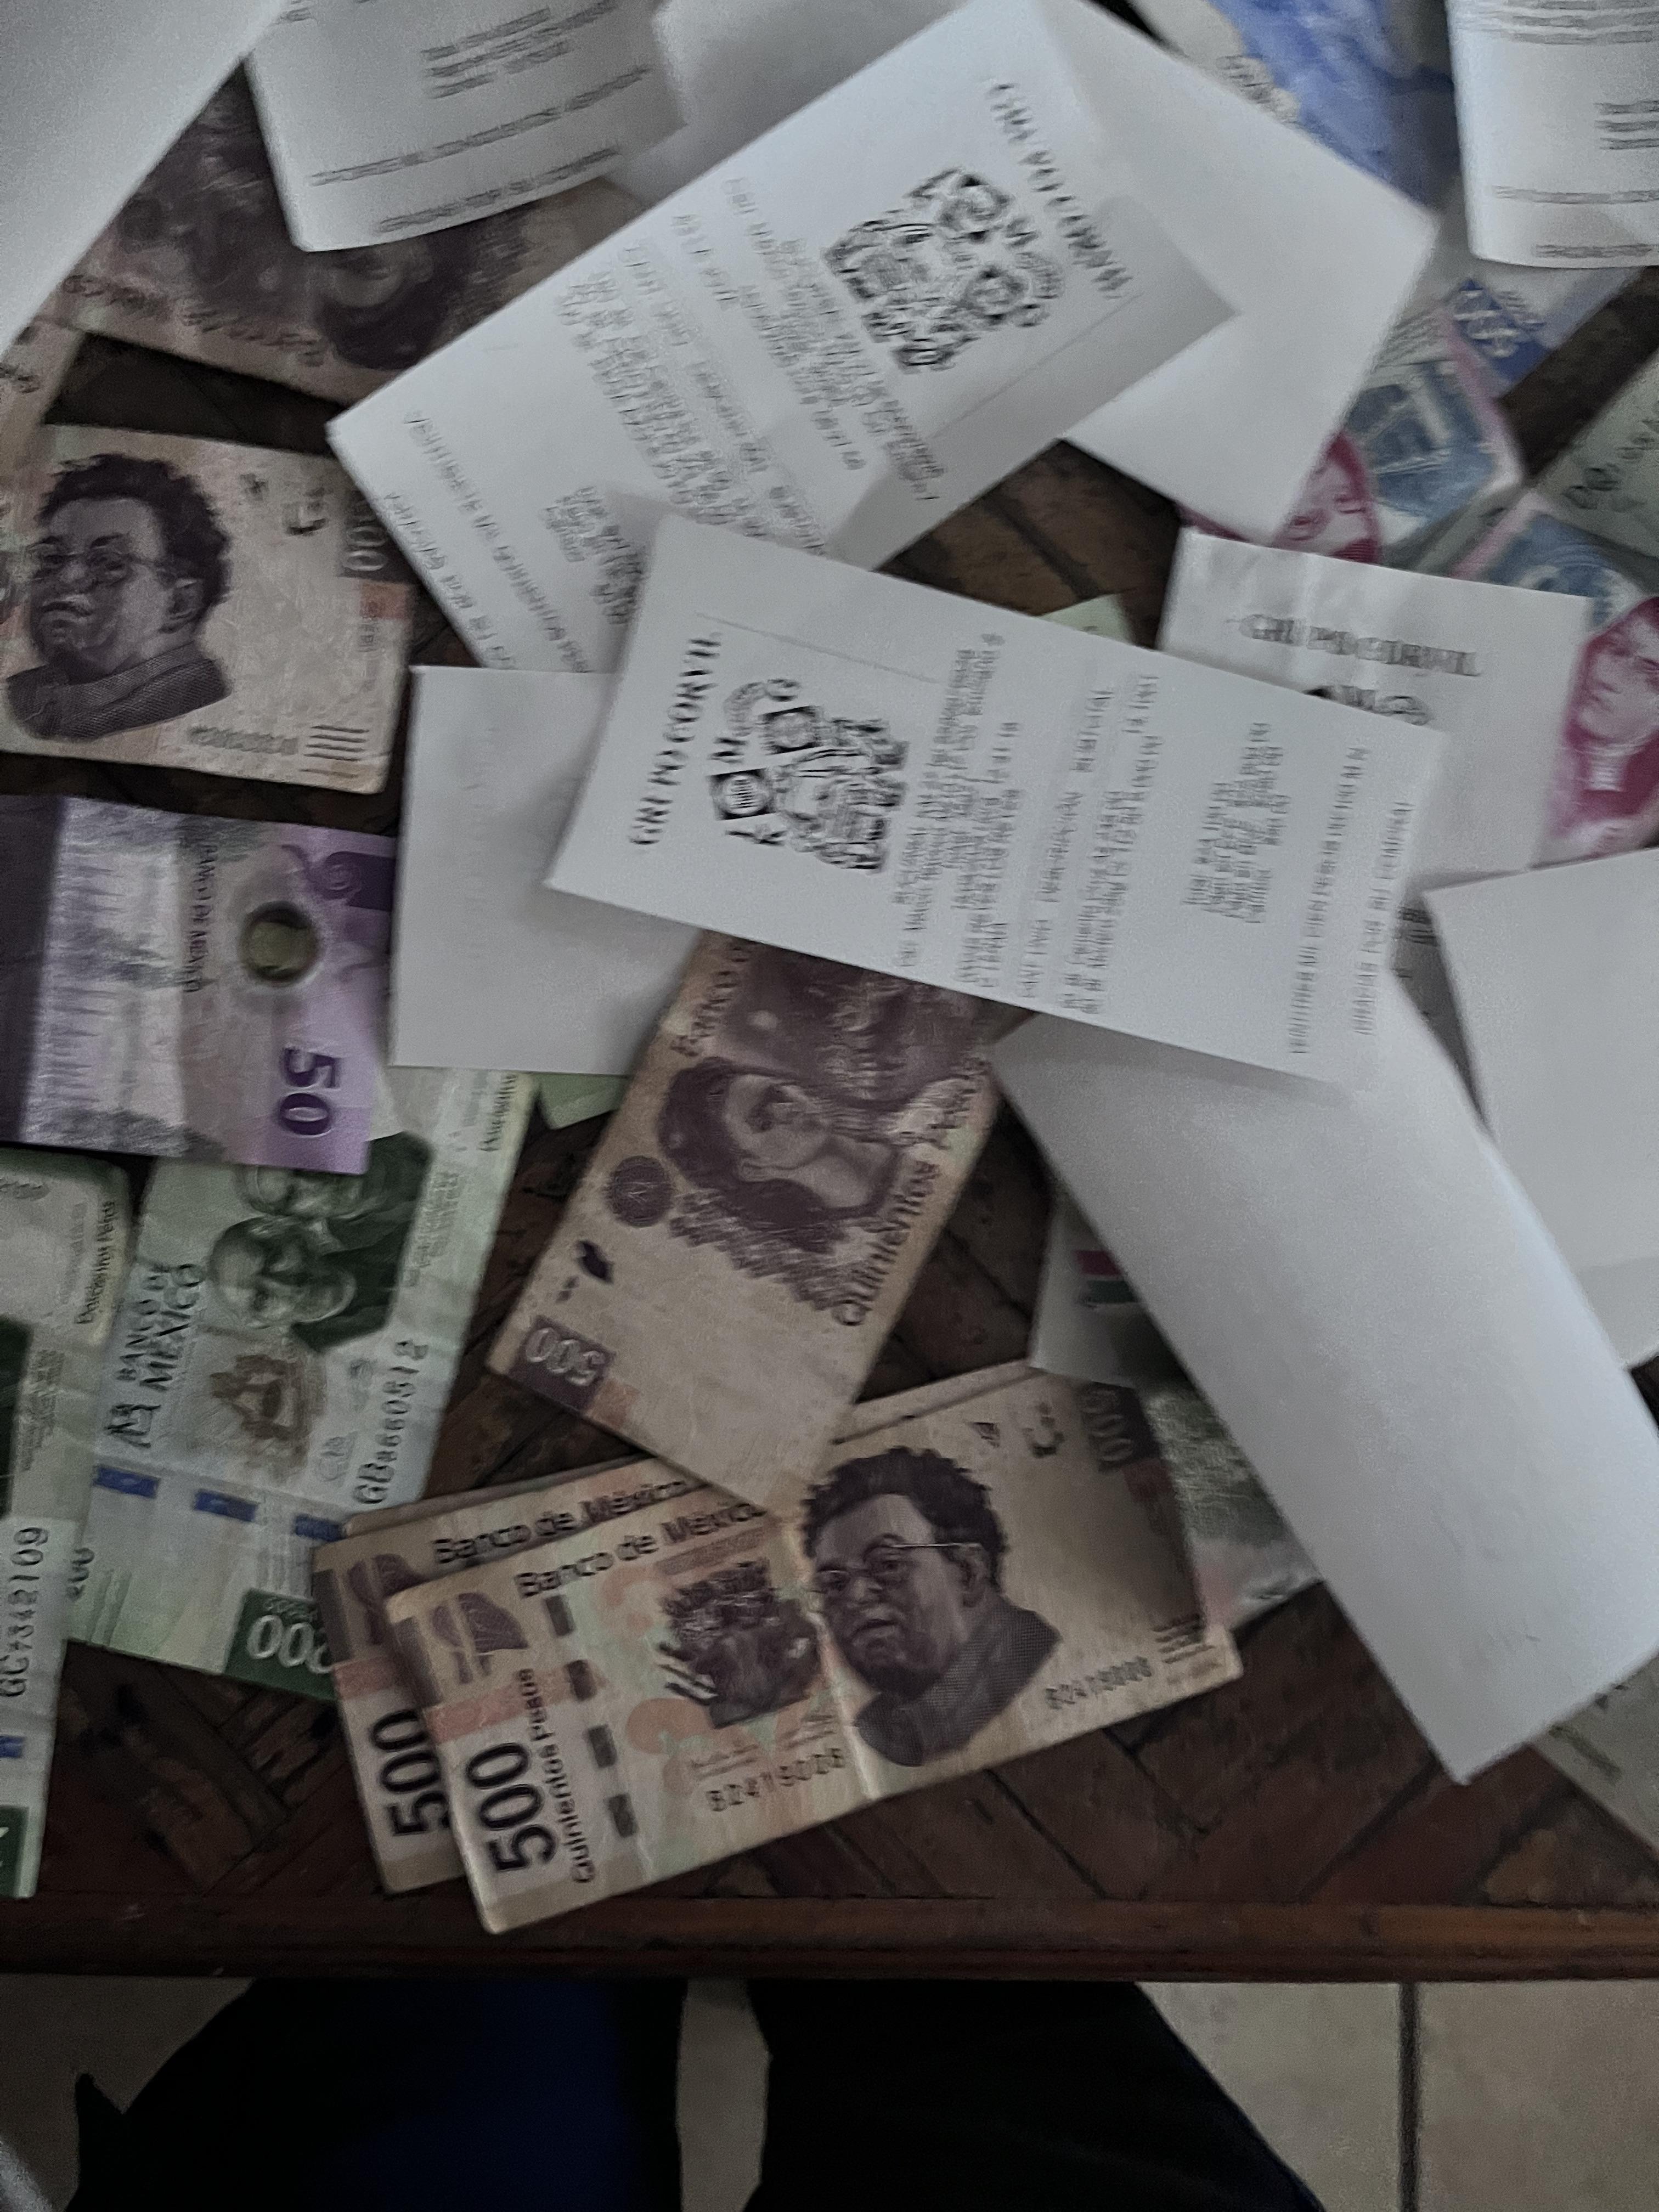100: (1157, 242, 1504, 613), (1438, 453, 1659, 953)
200: (59, 951, 453, 1709), (0, 1130, 125, 1937)
50: (0, 789, 387, 1183)
500: (321, 1386, 1195, 1937), (509, 888, 1021, 1508), (0, 73, 735, 435), (0, 406, 455, 820)
500 nuevo: (1133, 0, 1659, 427)
